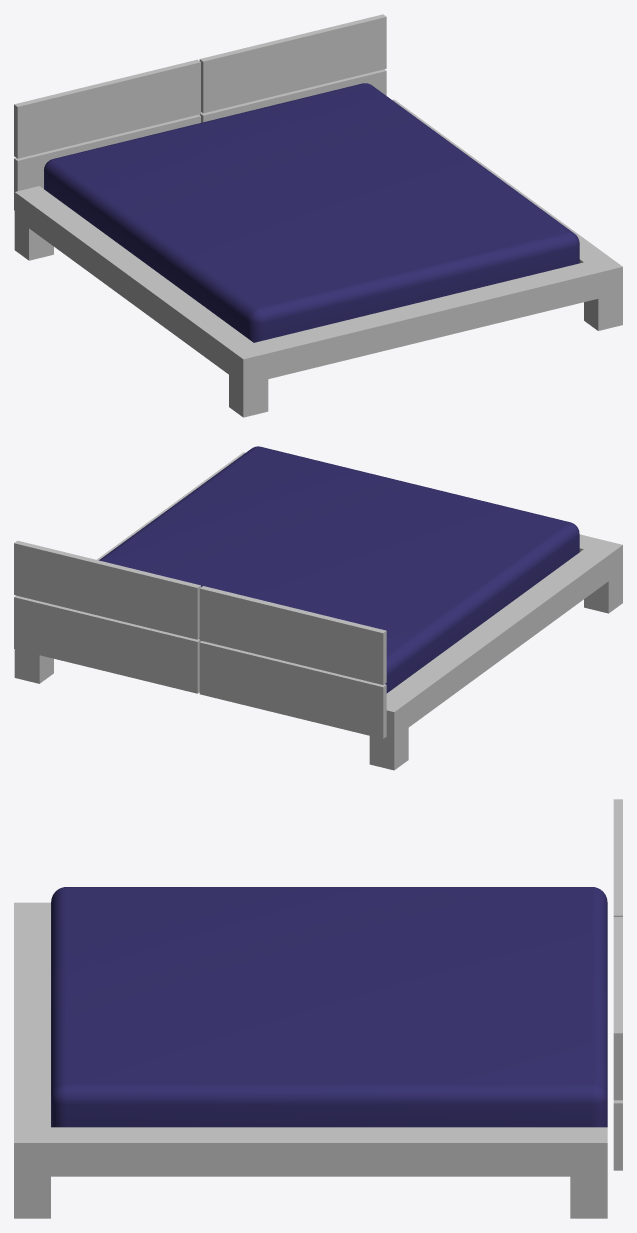
File: lettoCiliegio.obj
The picture shows the model from 3 angles, top to bottom: view 1: azimuth 30°, elevation 25°; view 2: azimuth 150°, elevation 25°; view 3: azimuth 270°, elevation 25°; orthographic projection. The views are drawn at different scales.
Parts seen in each view (by area): view 1: ChamferBox01_1, Line03_7, Box31_5, Box32_9, Box30_4, Box29_10, Box24_3, Box23_6, Box35_2; view 2: ChamferBox01_1, Line03_7, Box31_5, Box32_9, Box30_4, Box29_10, Box35_2, Box36_8, Box24_3; view 3: ChamferBox01_1, Line03_7, Box32_9, Box36_8, Box23_6, Box31_5, Box29_10.
Boxes of the visible parts, x1,y1,x2,y2 form: ChamferBox01_1: [44, 83, 579, 342]; Line03_7: [14, 99, 622, 385]; Box31_5: [14, 59, 200, 158]; Box32_9: [199, 14, 386, 113]; Box30_4: [14, 114, 200, 210]; Box29_10: [199, 69, 386, 122]; Box24_3: [229, 375, 268, 417]; Box23_6: [584, 293, 622, 330]; Box35_2: [14, 218, 53, 260]; ChamferBox01_1: [99, 446, 579, 693]; Line03_7: [97, 452, 622, 737]; Box31_5: [199, 586, 386, 684]; Box32_9: [14, 540, 200, 639]; Box30_4: [199, 641, 386, 738]; Box29_10: [14, 595, 200, 693]; Box35_2: [369, 728, 408, 770]; Box36_8: [14, 649, 53, 683]; Box24_3: [584, 571, 622, 613]; ChamferBox01_1: [51, 887, 607, 1127]; Line03_7: [14, 902, 607, 1176]; Box32_9: [613, 917, 622, 1100]; Box36_8: [570, 1176, 607, 1218]; Box23_6: [14, 1176, 50, 1218]; Box31_5: [613, 799, 622, 916]; Box29_10: [613, 1100, 622, 1170].
Bounding box in the file's own units: 184 × 65 × 197.
